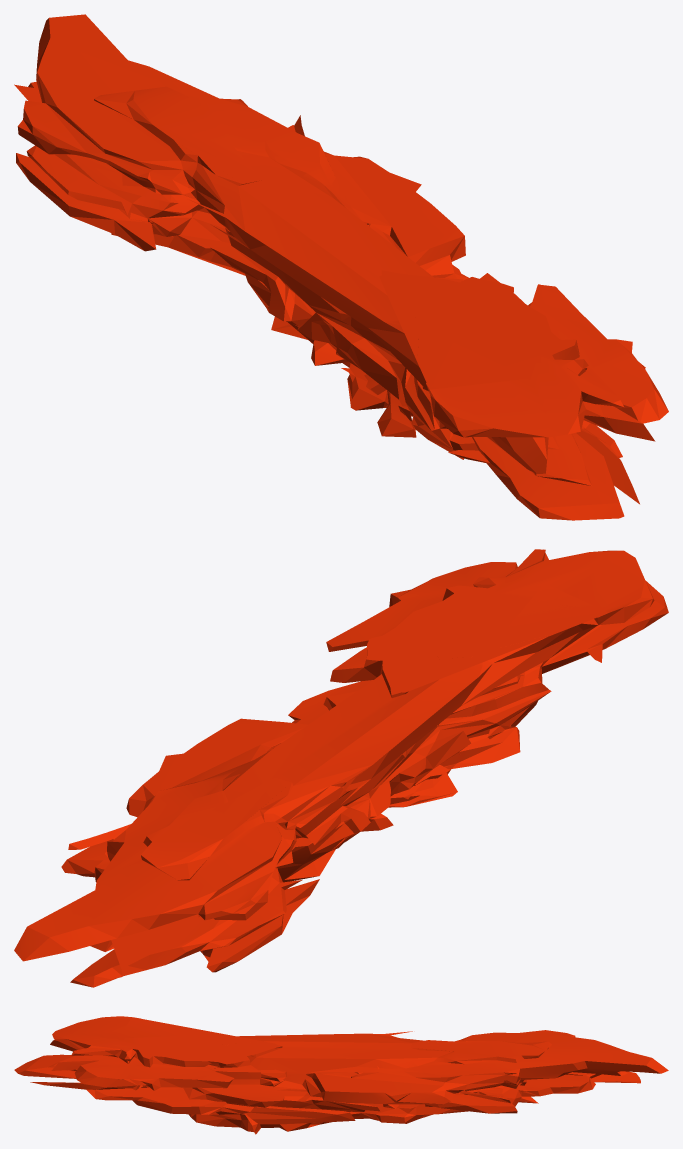
File: canyon_rock_wall_12.fbx
The picture shows the model from 3 angles, top to bottom: view 1: azimuth 30°, elevation 25°; view 2: azimuth 150°, elevation 25°; view 3: azimuth 270°, elevation 25°; orthographic projection. The views are drawn at different scales.
Parts seen in each view (by area): view 1: Circle.496_cell.007; view 2: Circle.496_cell.007; view 3: Circle.496_cell.007.
Boxes of the visible parts, box(x1,y1,x2,y2) form: Circle.496_cell.007: box(14, 14, 668, 520); Circle.496_cell.007: box(14, 549, 668, 987); Circle.496_cell.007: box(14, 1016, 668, 1134).
Bounding box in the file's own units: 773 × 422 × 3354.
